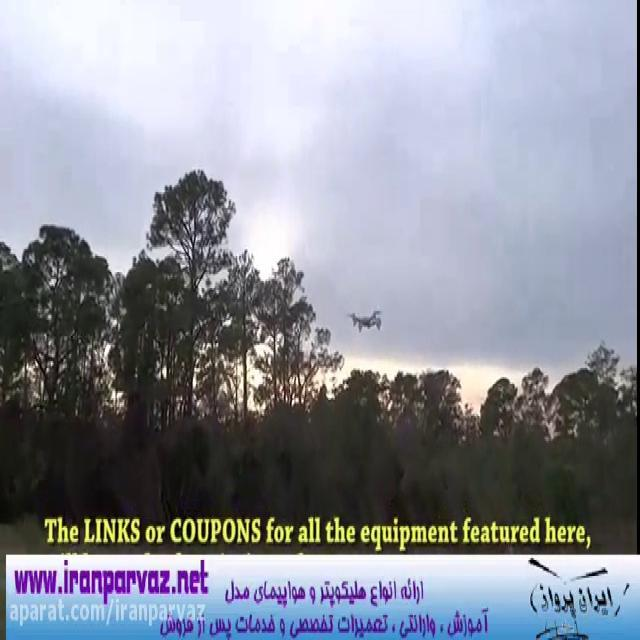drone: (344, 304, 384, 336)
